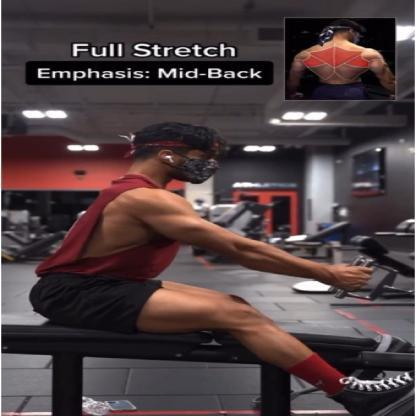Seated Cable Rows: (0, 96, 416, 416)
